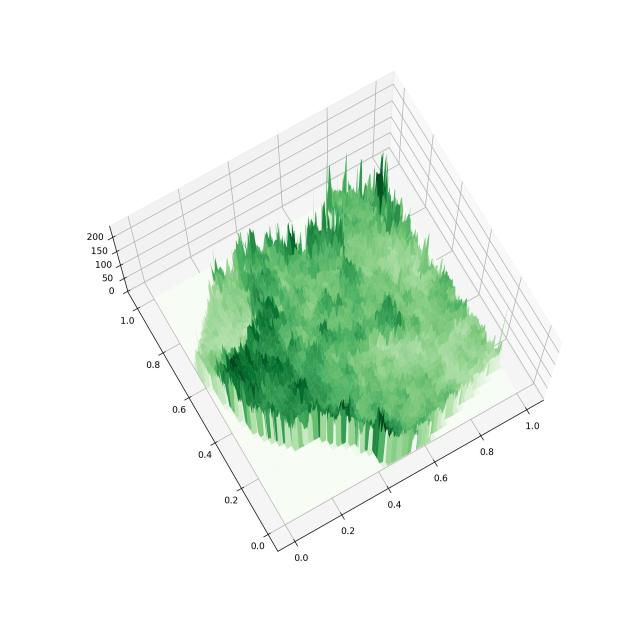pine: (56, 30, 572, 606)
